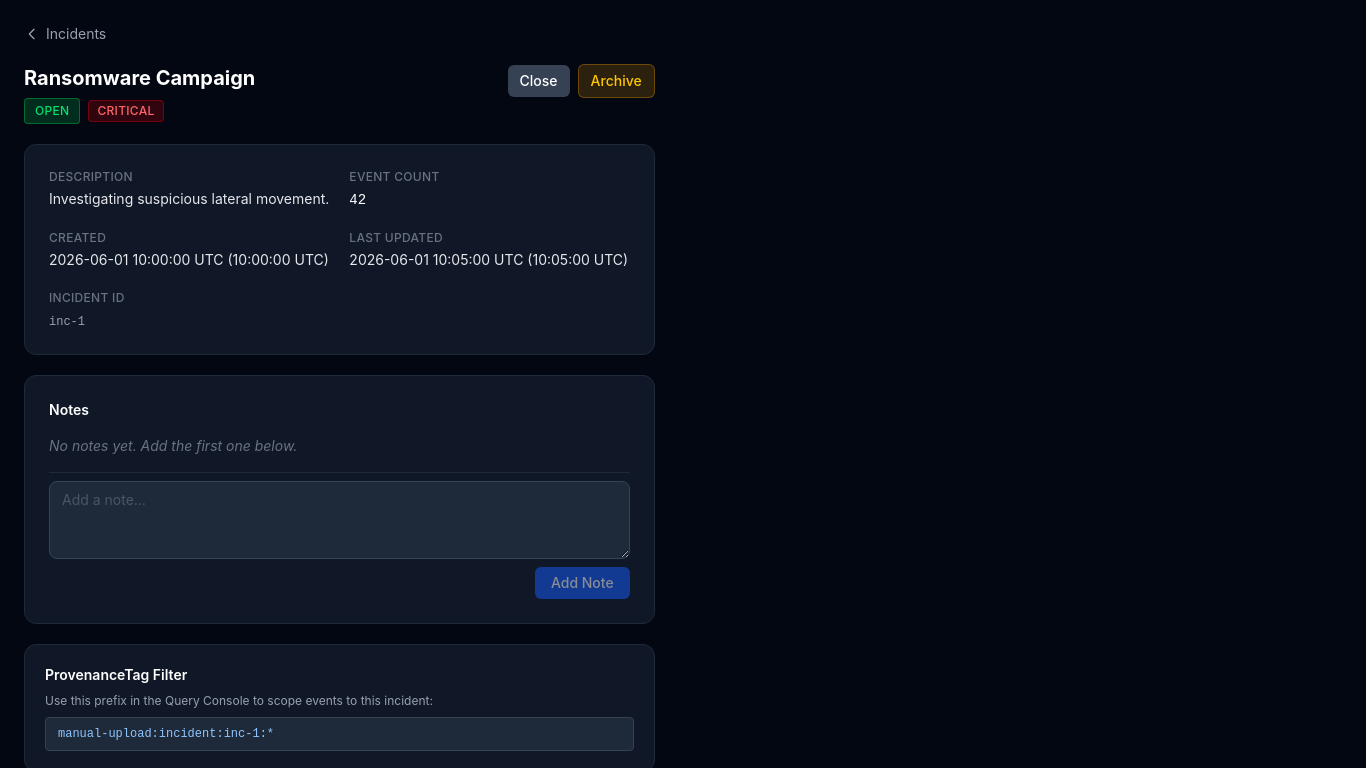
Test: IncidentDetailPage — status confirmation + toast (FR #18) › clicking Close shows a confirmation dialog
Click the button "Close". click: [539, 81]
box: top-left (508, 65), bottom-right (570, 97)
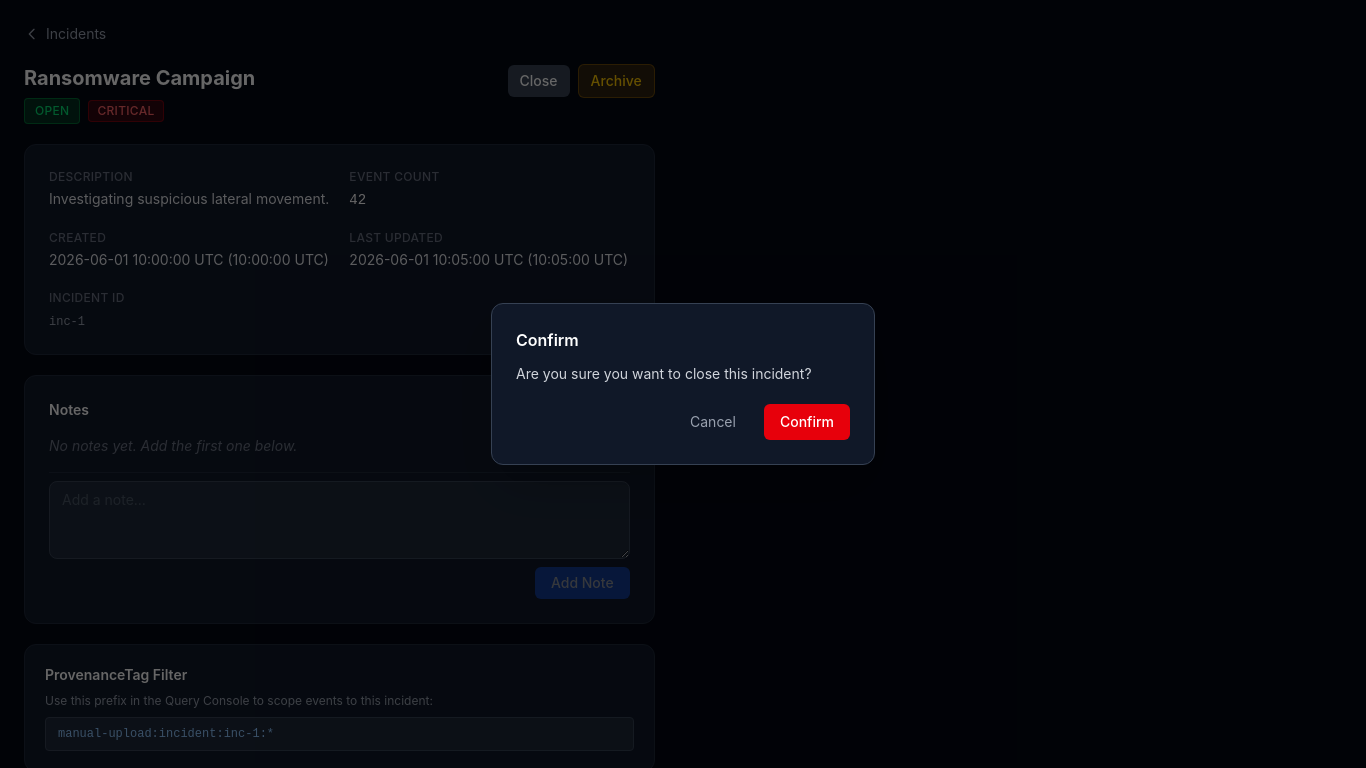
Expected: the dialog is shown
Expected: the text "Are you sure you want to close this incident?" is shown, top-left (516, 364), bottom-right (850, 384)
